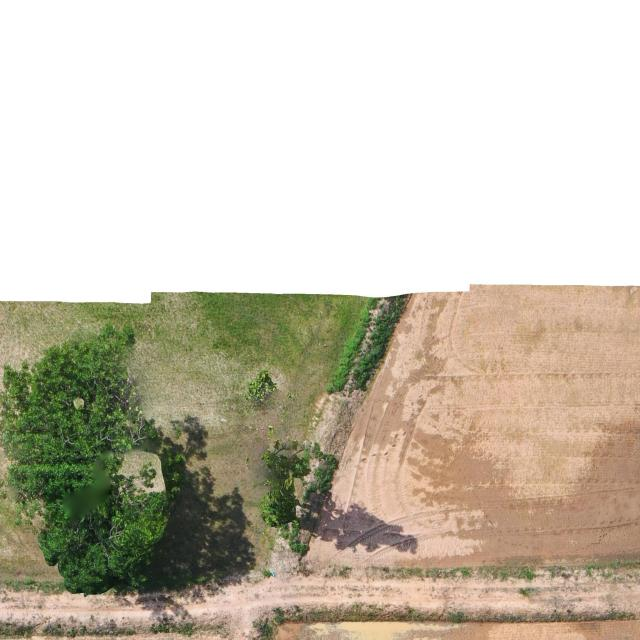Tree: (0, 339, 185, 598), (258, 437, 340, 558)
